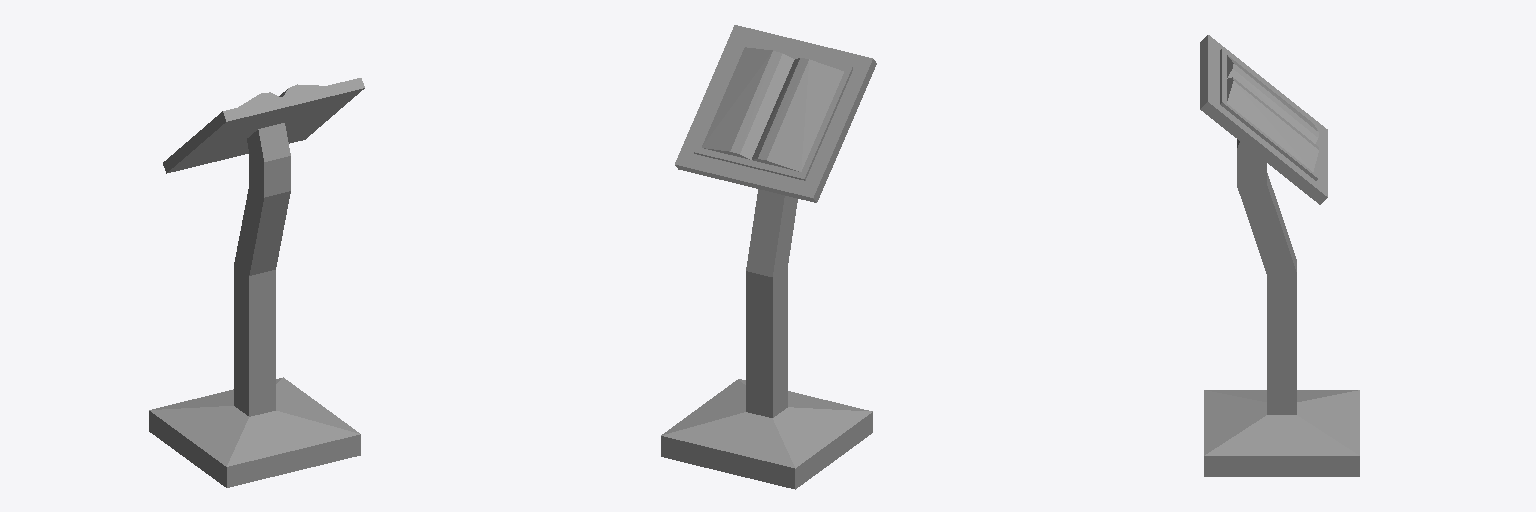
3 renders of one model, left to right at view 1: azimuth 30°, elevation 25°; view 2: azimuth 150°, elevation 25°; view 3: azimuth 270°, elevation 25°, orthographic.
Parts seen in each view (by area): view 1: Book_Holder_Book_holder; view 2: Book_Holder_Book_holder; view 3: Book_Holder_Book_holder.
Boxes of the visible parts, x1,y1,x2,y2 form: Book_Holder_Book_holder: [149, 78, 364, 487]; Book_Holder_Book_holder: [661, 25, 876, 489]; Book_Holder_Book_holder: [1200, 35, 1359, 476].
Bounding box in the file's own units: 0.5354 × 1.39 × 0.5334.